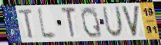L: (36, 6, 60, 41)
Q: (80, 6, 104, 39)
T: (60, 6, 77, 40), (18, 8, 36, 40)
U: (102, 6, 124, 38)
V: (120, 4, 141, 38)
